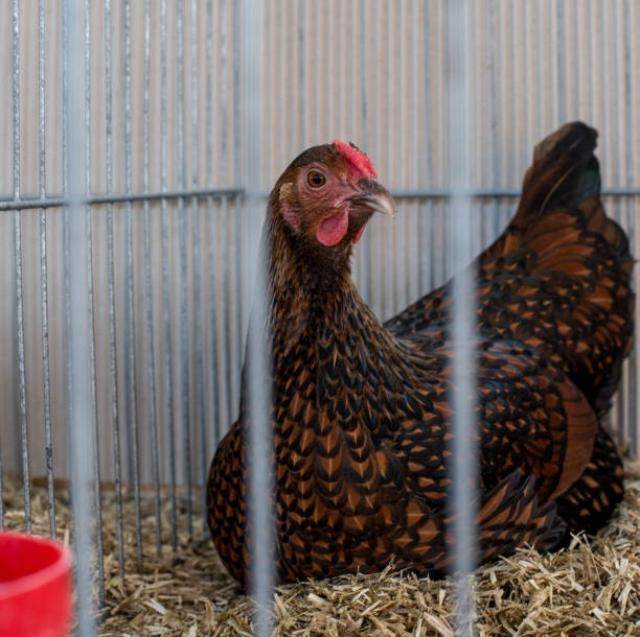Chicken: (205, 121, 640, 585)
